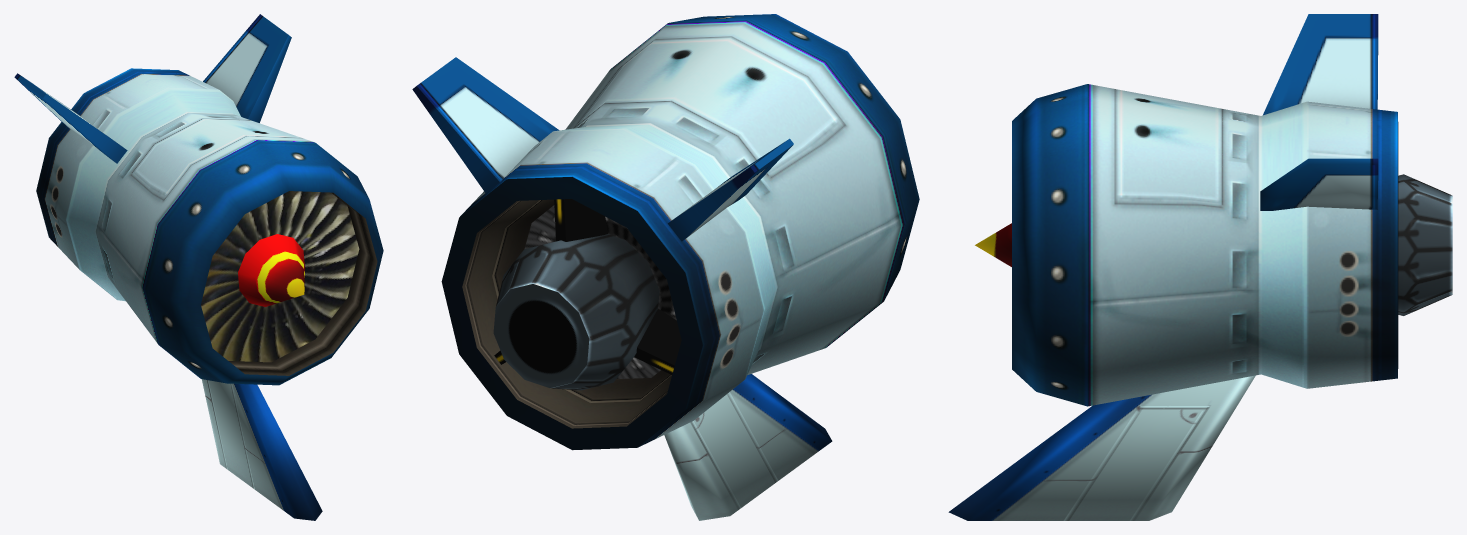
The model's file is rolling_booster.FBX.
3 views of the same model, side by side, from view 1: azimuth 30°, elevation 25°; view 2: azimuth 150°, elevation 25°; view 3: azimuth 270°, elevation 25° (orthographic). The views are drawn at different scales.
Parts seen in each view (by area): view 1: rolling_booster, wing; view 2: rolling_booster, wing; view 3: rolling_booster, wing.
Boxes of the visible parts, <box> form: rolling_booster: <box>14,14,383,385</box>; wing: <box>201,379,322,520</box>; rolling_booster: <box>412,14,919,450</box>; wing: <box>664,374,832,520</box>; rolling_booster: <box>975,14,1452,406</box>; wing: <box>948,375,1255,520</box>.
Bounding box in the file's own units: 1 × 1.34 × 1.44.
